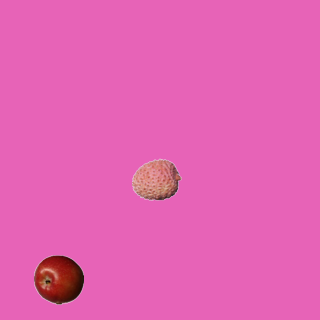Apple Braeburn: (33, 254, 83, 304)
Lychee: (131, 154, 181, 204)
